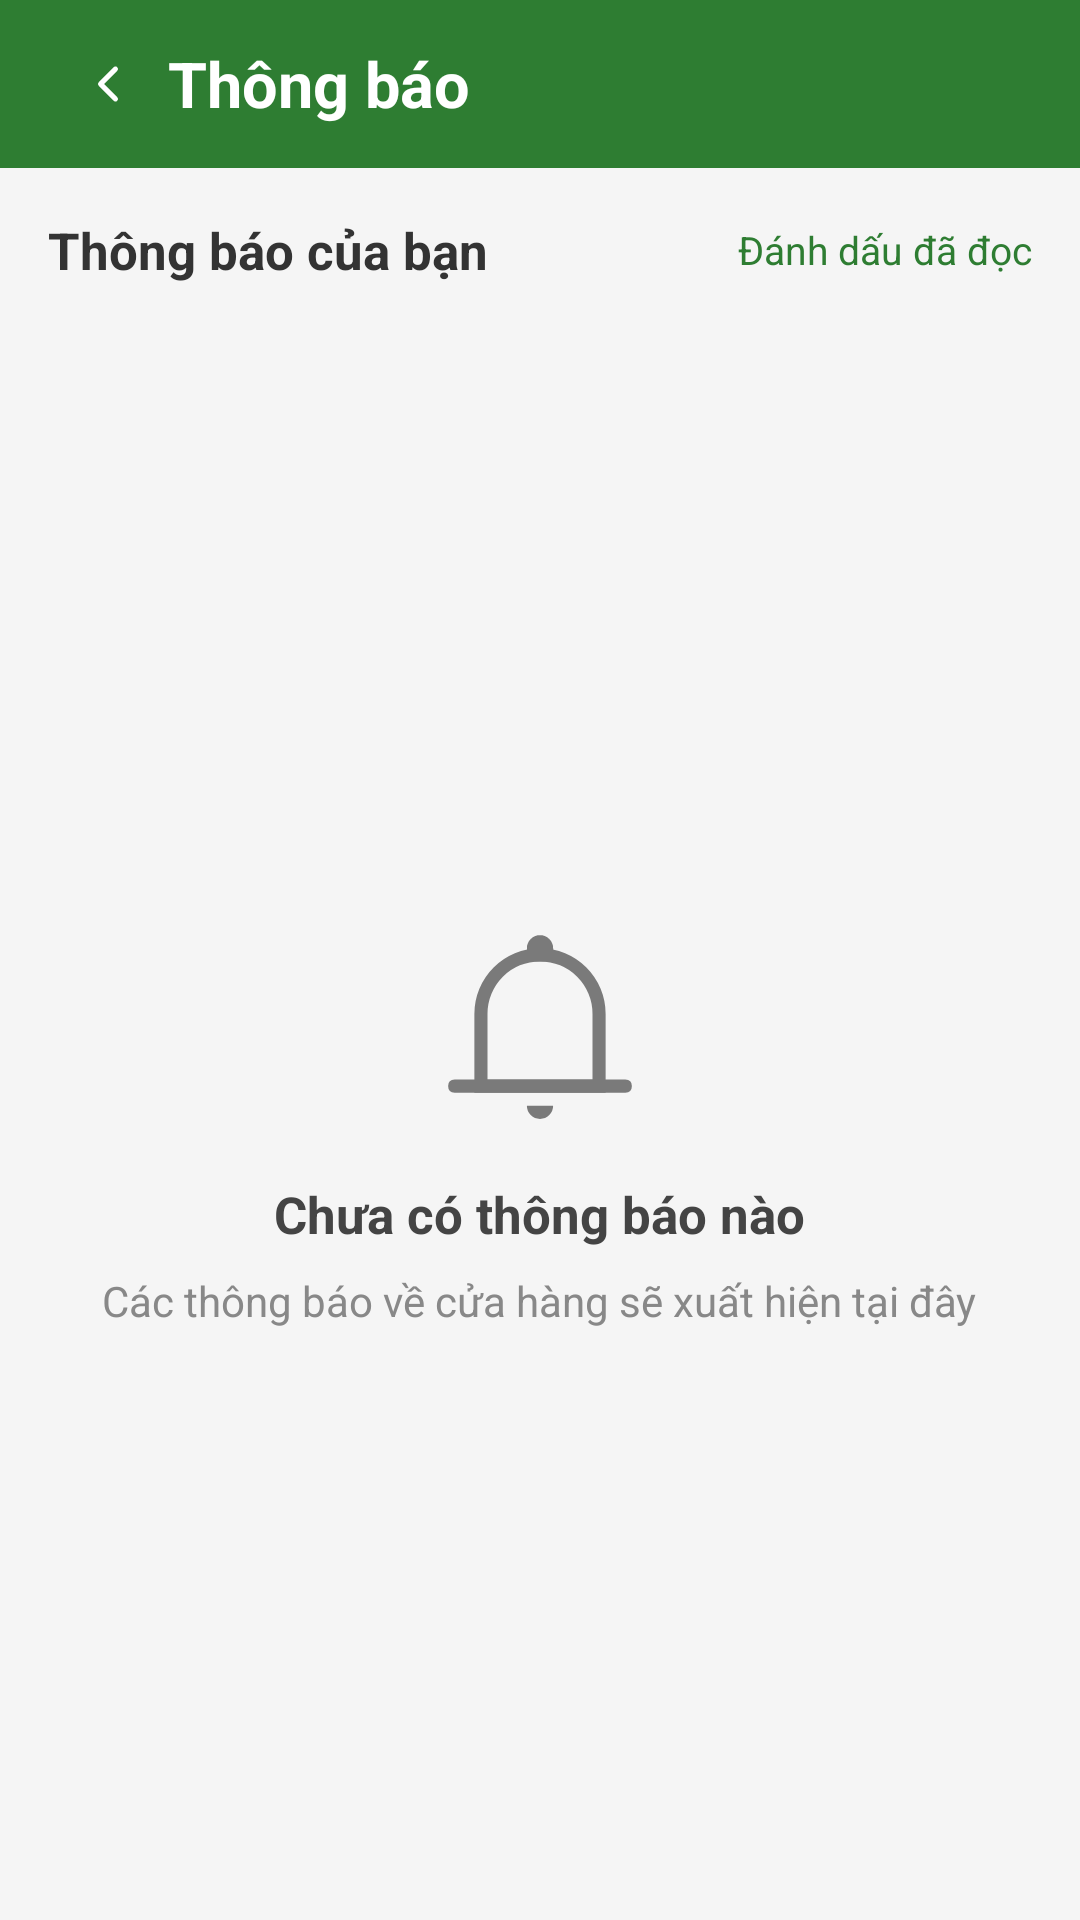

Point at icon controls on the screen. Image size 1080x1920, points as point (x, y).
Quay lại: point (108, 84)
